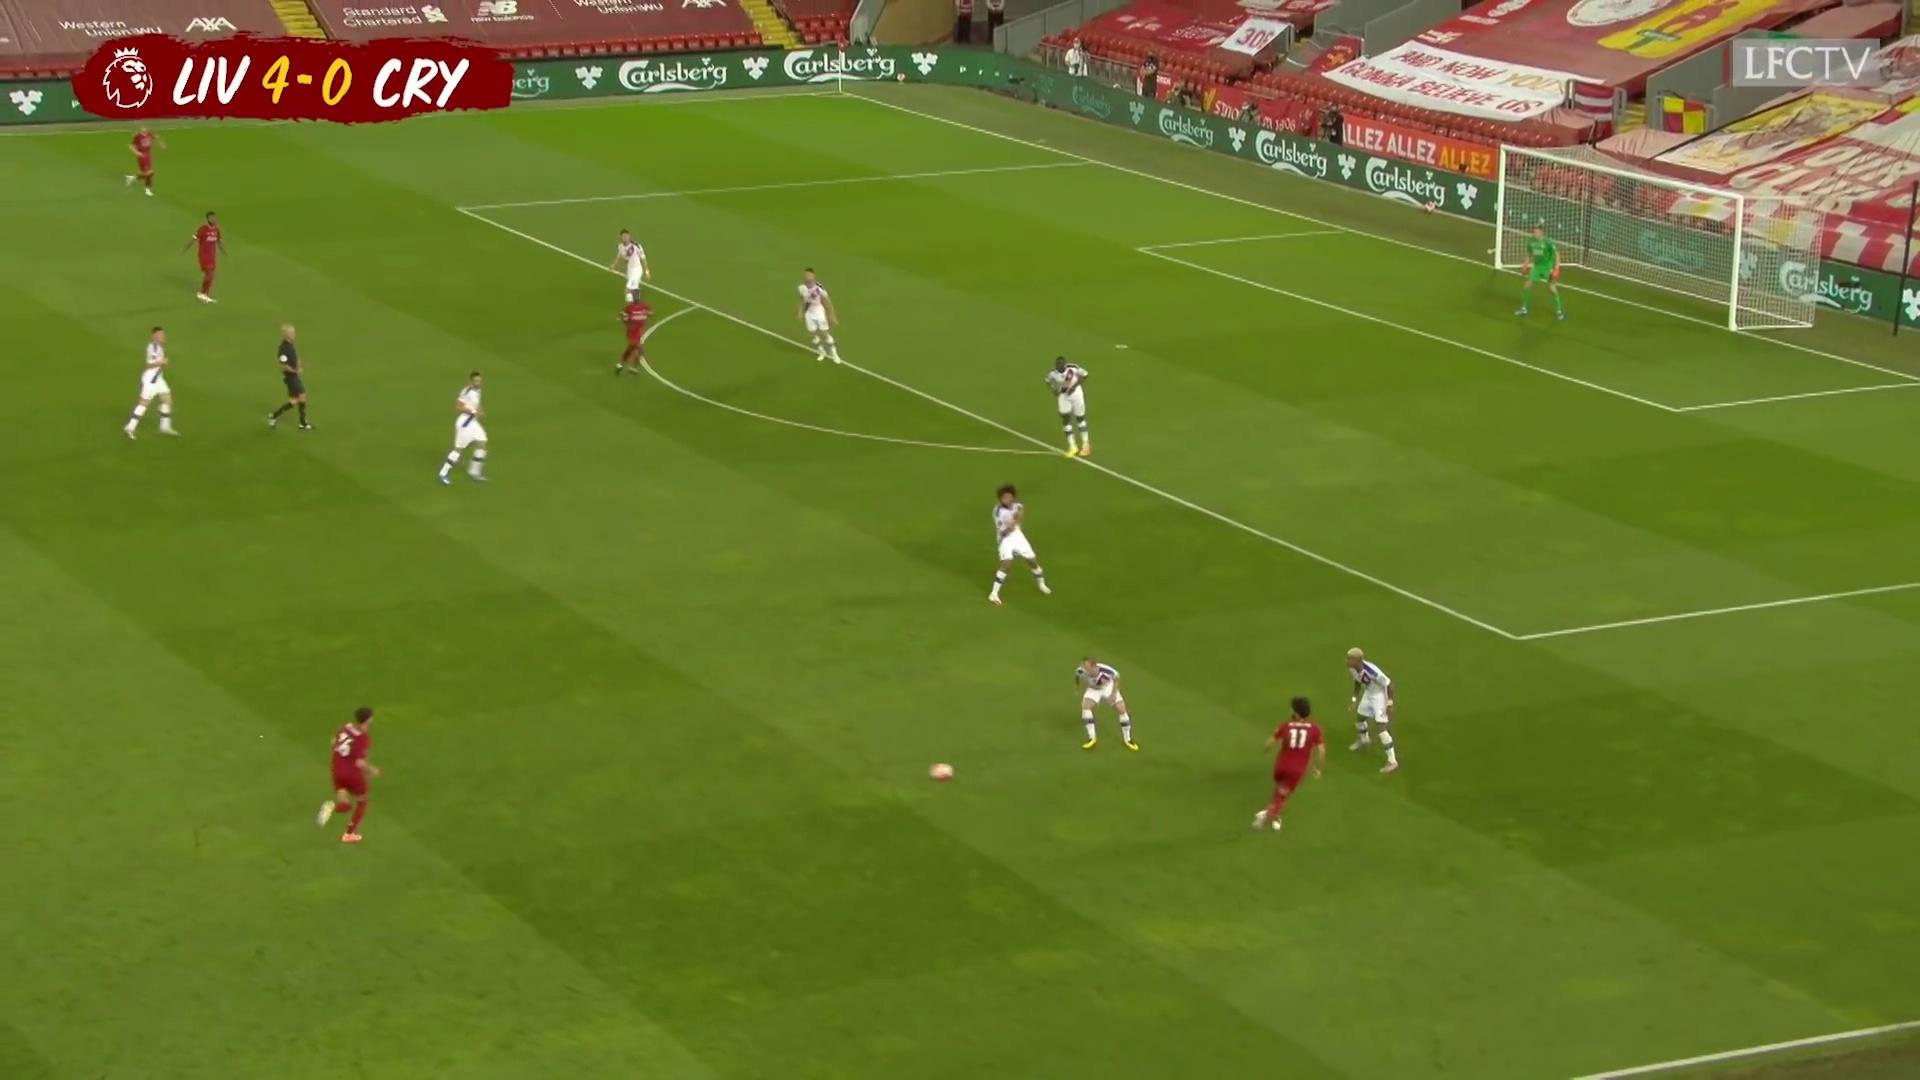ball: (928, 762, 954, 784)
goalkeeper: (1511, 225, 1569, 326)
player: (1246, 693, 1327, 839), (316, 702, 388, 846), (982, 482, 1056, 608), (1340, 642, 1403, 777), (119, 323, 184, 449), (1071, 651, 1141, 757), (437, 369, 498, 490), (1045, 352, 1095, 460), (794, 269, 847, 370), (616, 228, 659, 331), (188, 209, 227, 309), (617, 285, 657, 379), (122, 119, 168, 200)
referee: (261, 320, 312, 436)
